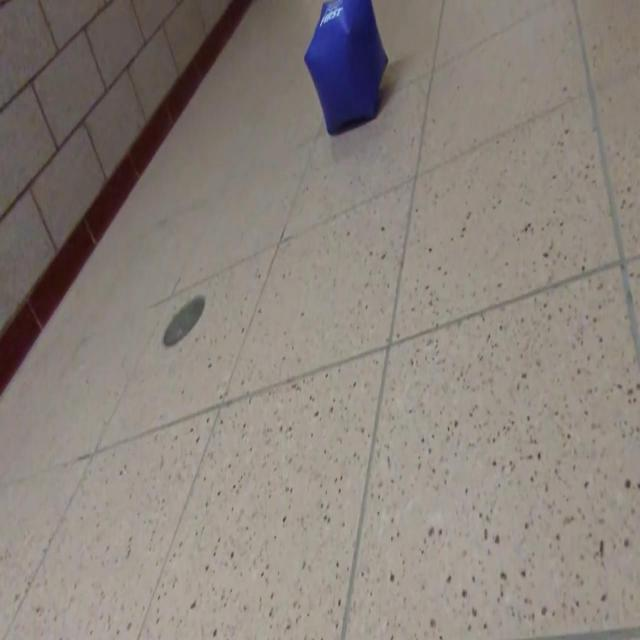frc_cube: (302, 0, 389, 132)
